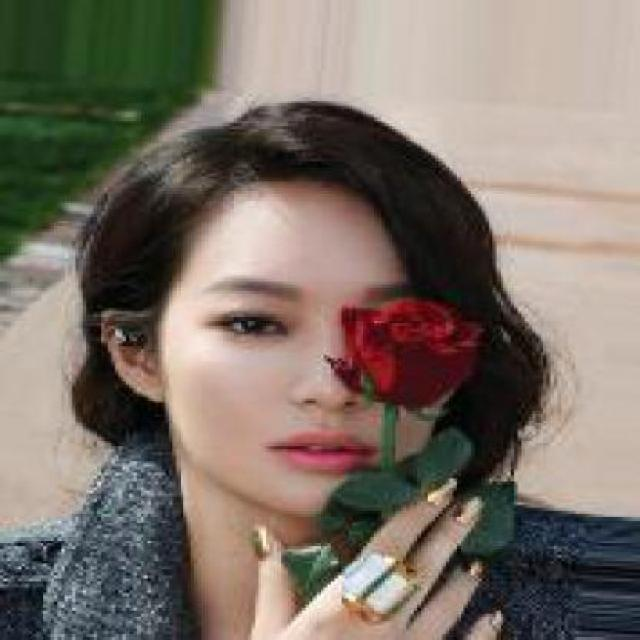closed-mouth: (256, 426, 390, 479)
